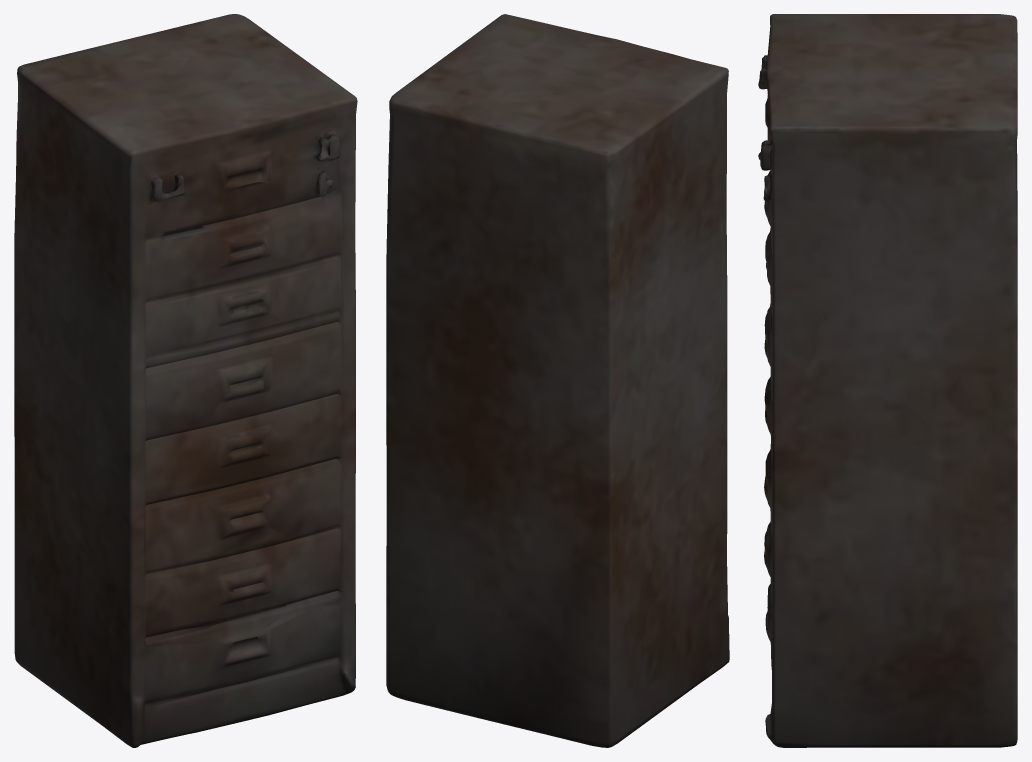
The model's file is worn-iron-filing-cabinet-v001.glb.
The picture shows the model from 3 angles, left to right: view 1: azimuth 30°, elevation 25°; view 2: azimuth 150°, elevation 25°; view 3: azimuth 270°, elevation 25°; orthographic projection. The views are drawn at different scales.
Visible parts, largest first — view 1: worn-iron-filing-cabinet; view 2: worn-iron-filing-cabinet; view 3: worn-iron-filing-cabinet.
Part boxes in pixels (x1,y1,x2,y2): worn-iron-filing-cabinet: [14, 14, 357, 747]; worn-iron-filing-cabinet: [386, 14, 729, 747]; worn-iron-filing-cabinet: [758, 14, 1017, 747].
Bounding box in the file's own units: 0.4903 × 1.24 × 0.4662.
1 material, 1 textured.
